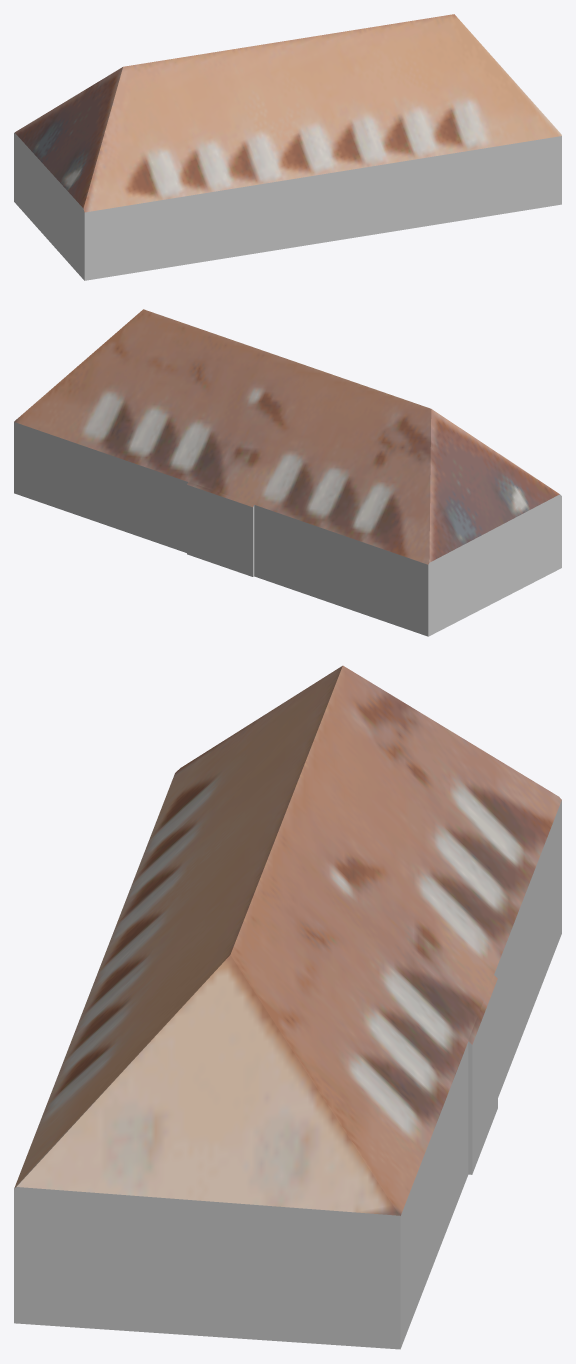
File: DEBW_0010007Txbc.gltf
The picture shows the model from 3 angles, top to bottom: view 1: azimuth 30°, elevation 25°; view 2: azimuth 150°, elevation 25°; view 3: azimuth 270°, elevation 25°; orthographic projection. The views are drawn at different scales.
Parts seen in each view (by area): view 1: Z_UP; view 2: Z_UP; view 3: Z_UP.
Boxes of the visible parts, x1=… form: Z_UP: x1=14, y1=14, x2=561, y2=280; Z_UP: x1=14, y1=309, x2=561, y2=636; Z_UP: x1=14, y1=665, x2=561, y2=1349.
Size of the model in its own units: 41.35 by 13.88 by 21.62.
2 materials, 1 textured.
